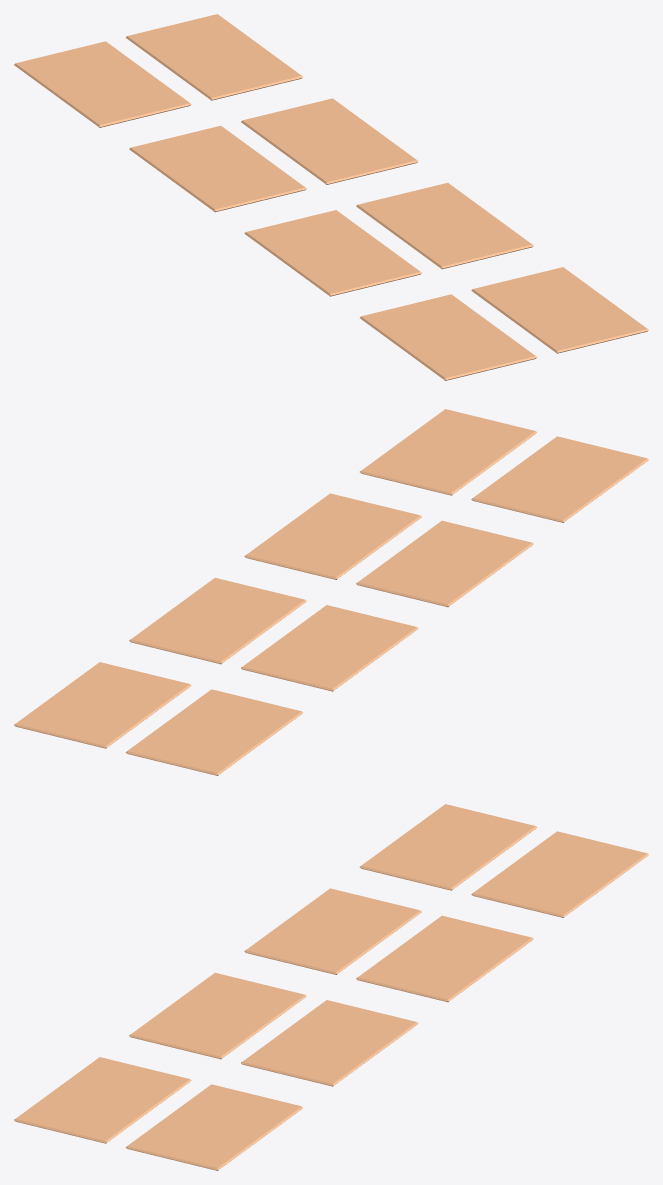
The picture shows the model from 3 angles, top to bottom: view 1: azimuth 30°, elevation 25°; view 2: azimuth 150°, elevation 25°; view 3: azimuth 330°, elevation 25°; orthographic projection.
Visible parts, largest first — view 1: Path stone.003, Path stone.004, Path stone, Path stone.001, Path stone.002, Path stone.005, Path stone.006, Path stone.007; view 2: Path stone.002, Path stone.005, Path stone, Path stone.001, Path stone.003, Path stone.004, Path stone.006, Path stone.007; view 3: Path stone.002, Path stone.005, Path stone, Path stone.001, Path stone.003, Path stone.004, Path stone.006, Path stone.007.
Part boxes in pixels (x1,y1,x2,y2): Path stone.003: [356, 182, 533, 269]; Path stone.004: [129, 125, 306, 212]; Path stone: [360, 294, 536, 380]; Path stone.001: [471, 267, 648, 353]; Path stone.002: [244, 210, 421, 296]; Path stone.005: [241, 98, 418, 184]; Path stone.006: [14, 41, 191, 127]; Path stone.007: [126, 14, 302, 100]; Path stone.002: [356, 520, 533, 607]; Path stone.005: [129, 577, 306, 664]; Path stone: [471, 436, 648, 522]; Path stone.001: [360, 409, 536, 495]; Path stone.003: [244, 493, 421, 579]; Path stone.004: [241, 605, 418, 691]; Path stone.006: [126, 689, 302, 775]; Path stone.007: [14, 662, 191, 748]; Path stone.002: [129, 972, 306, 1059]; Path stone.005: [356, 915, 533, 1002]; Path stone: [14, 1057, 191, 1143]; Path stone.001: [126, 1084, 302, 1170]; Path stone.003: [241, 1000, 418, 1086]; Path stone.004: [244, 888, 421, 974]; Path stone.006: [360, 804, 536, 890]; Path stone.007: [471, 831, 648, 917].
Size of the model in its own units: 0.77 by 0.01 by 2.81.
Materials: 1 (1 with a texture image).
